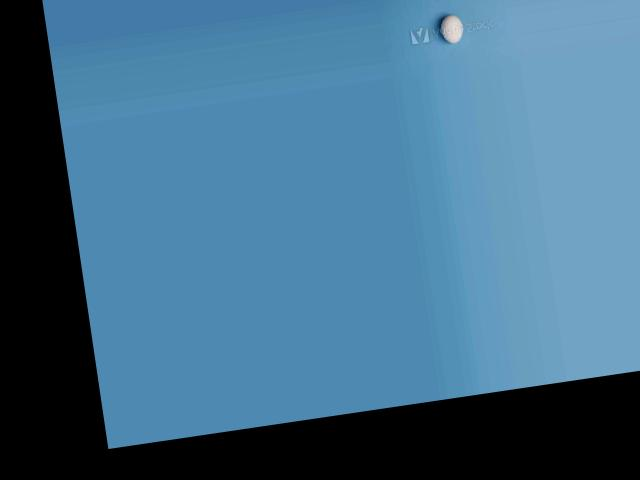egg: (439, 13, 465, 43)
